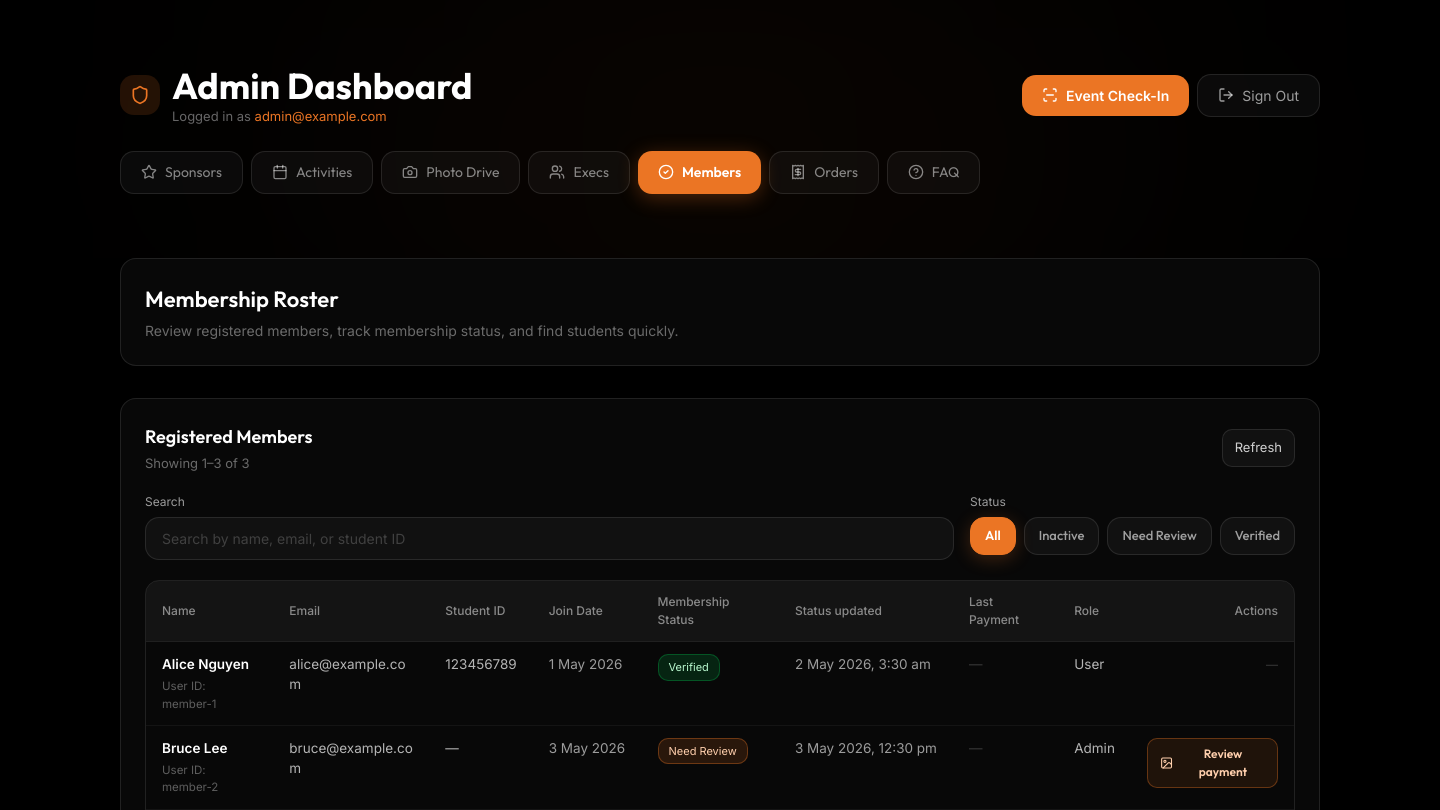
Scenario: Admin membership roster › shows an empty state when no payment proof is available
Expected: the text "Bruce Lee" is shown, [162,740,227,756]
Click the button "Review payment" at (1212, 763), box [1147,738,1278,788]
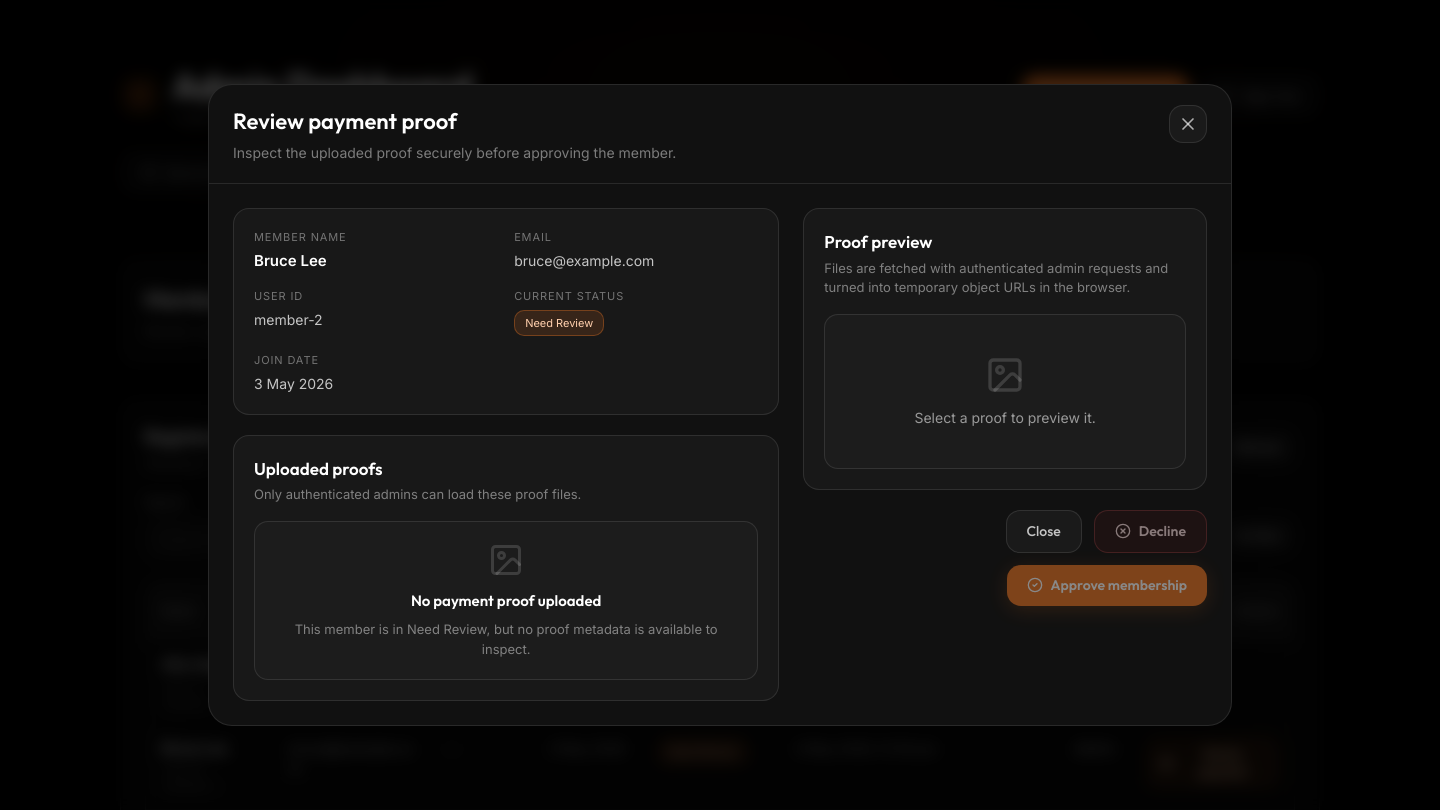
Now the text "No payment proof uploaded" is shown, box [411,590,601,610]
Now the button "Approve membership" is disabled, box [1007,564,1207,606]
Now the button "Decline" is disabled, box [1094,510,1207,552]
